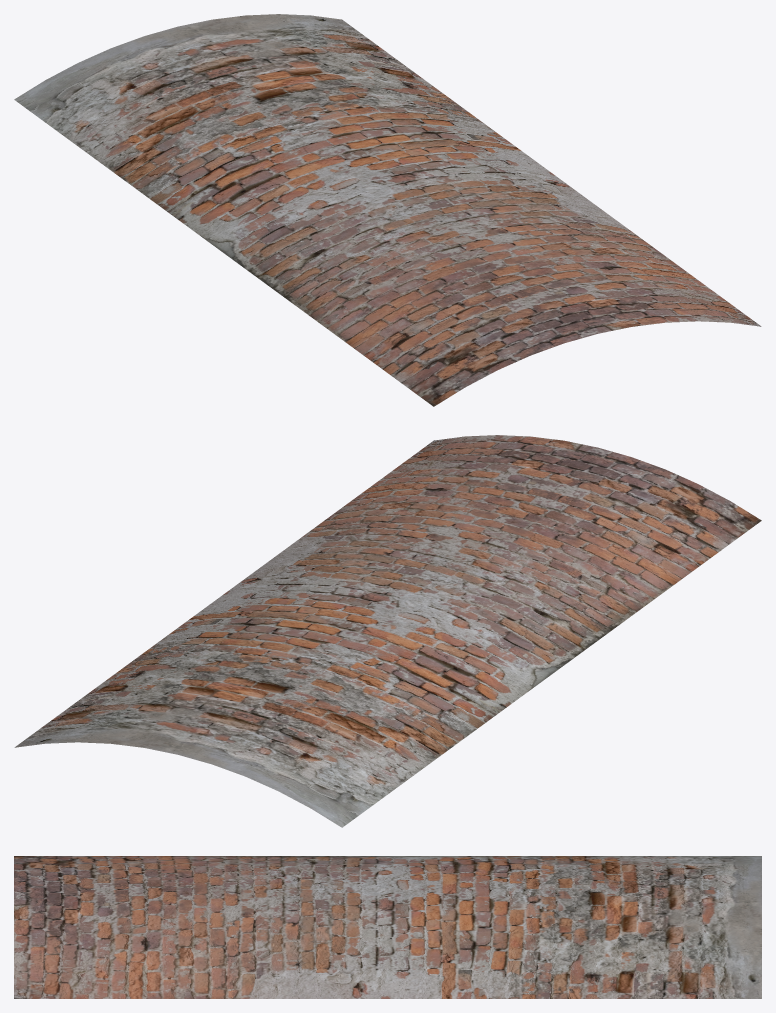
File: SM_ChapelCeiling_01_01.fbx
The picture shows the model from 3 angles, top to bottom: view 1: azimuth 30°, elevation 25°; view 2: azimuth 150°, elevation 25°; view 3: azimuth 270°, elevation 25°; orthographic projection. The views are drawn at different scales.
Visible parts, largest first — view 1: sm_ChapelCeiling_01_01_LOD0; view 2: sm_ChapelCeiling_01_01_LOD0; view 3: sm_ChapelCeiling_01_01_LOD0.
Part boxes in pixels (box(x1,y1,x2,y2)): sm_ChapelCeiling_01_01_LOD0: box(14, 14, 761, 406); sm_ChapelCeiling_01_01_LOD0: box(14, 435, 761, 827); sm_ChapelCeiling_01_01_LOD0: box(14, 856, 761, 998).
Bounding box in the file's own units: 550 × 248 × 23.87.
